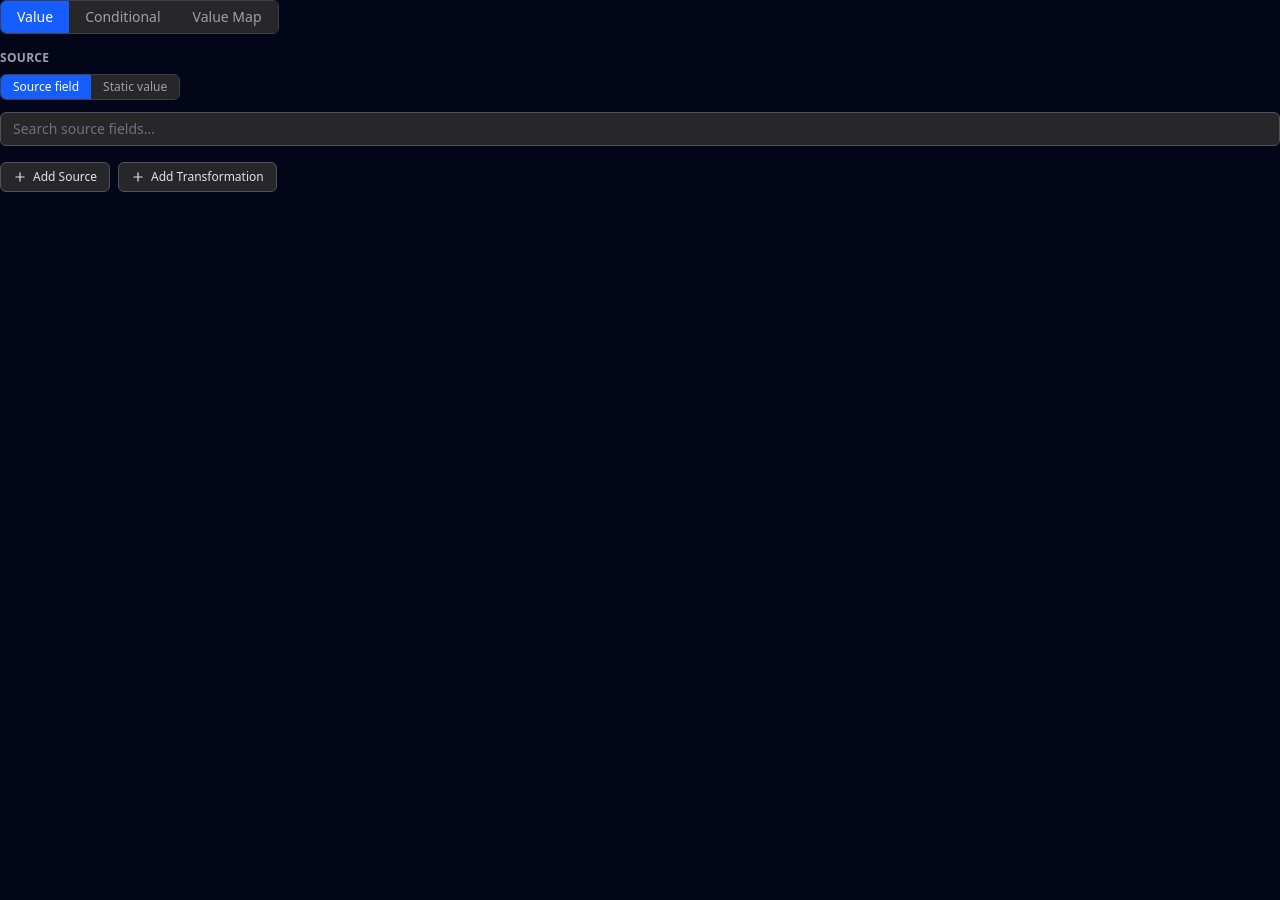
Test: UnifiedExpressionBuilder — mode switch confirmation › shows confirmation dialog when switching mode with non-empty state (AE-13)
Click the dropdown with test id "source-search-input".
click(640, 129)  # box [0,112,1279,146]
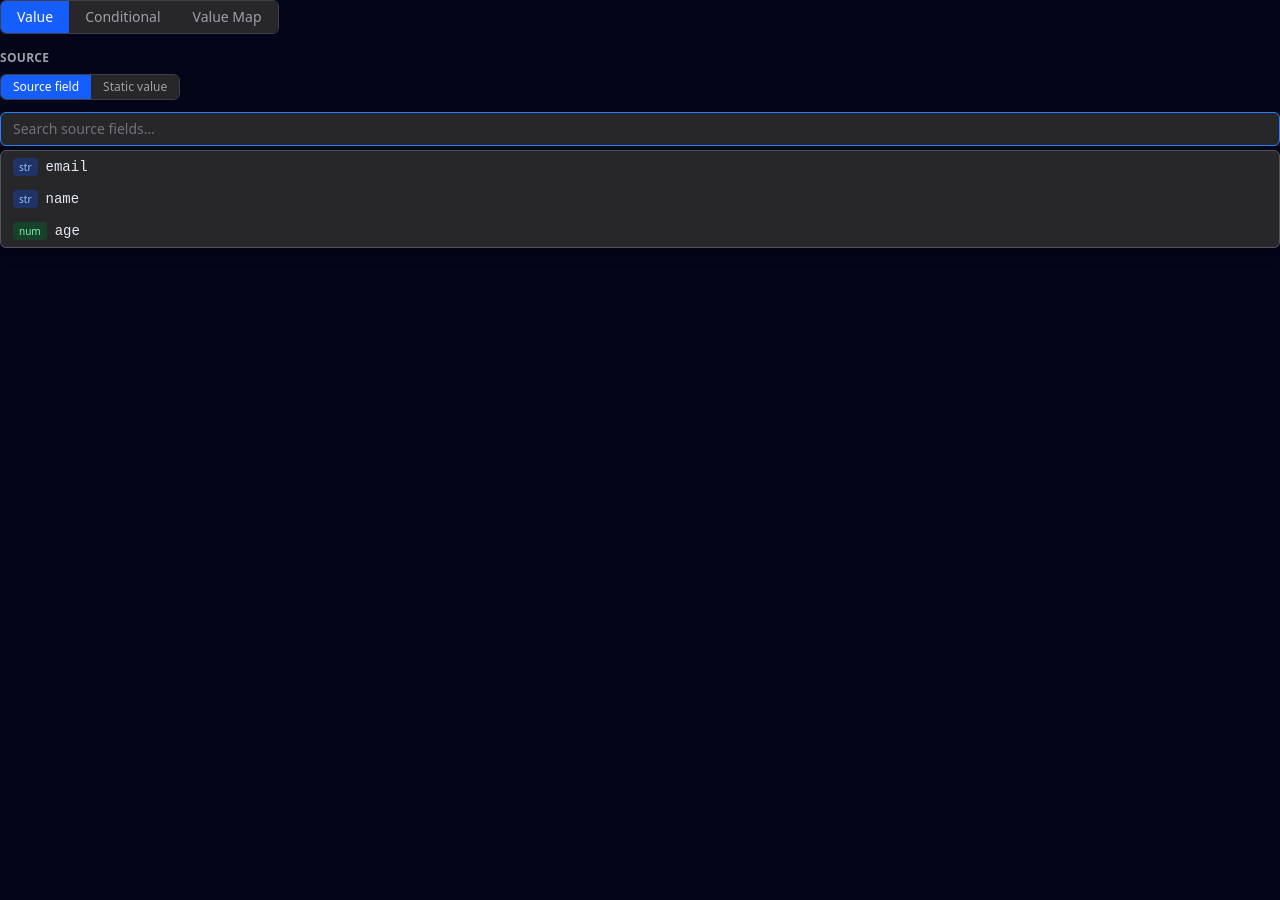
Click the button with test id "suggestion-email".
click(67, 167)  # box [1,151,1279,183]
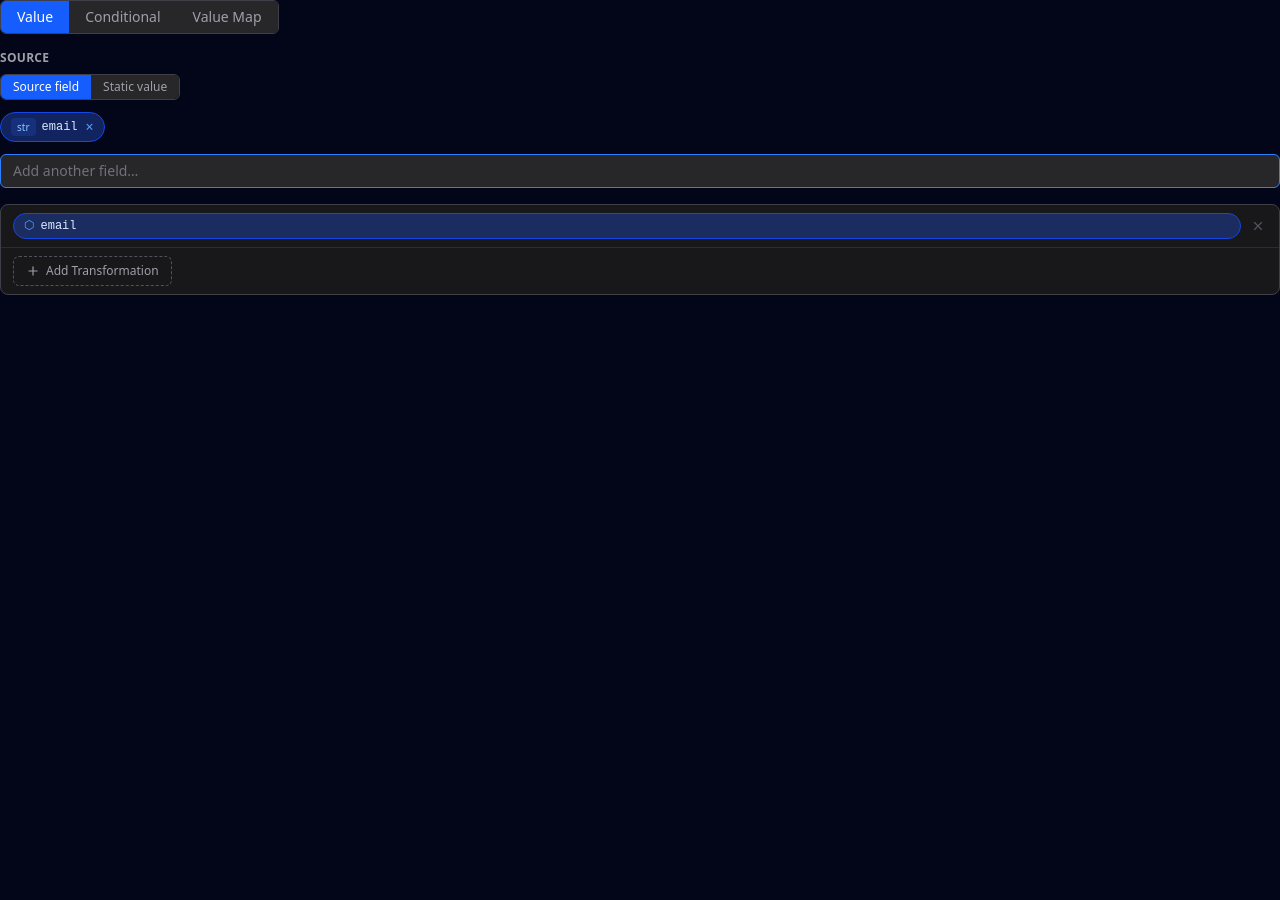
Click the tab with test id "mode-tab-conditional".
click(123, 17)  # box [69,1,177,33]
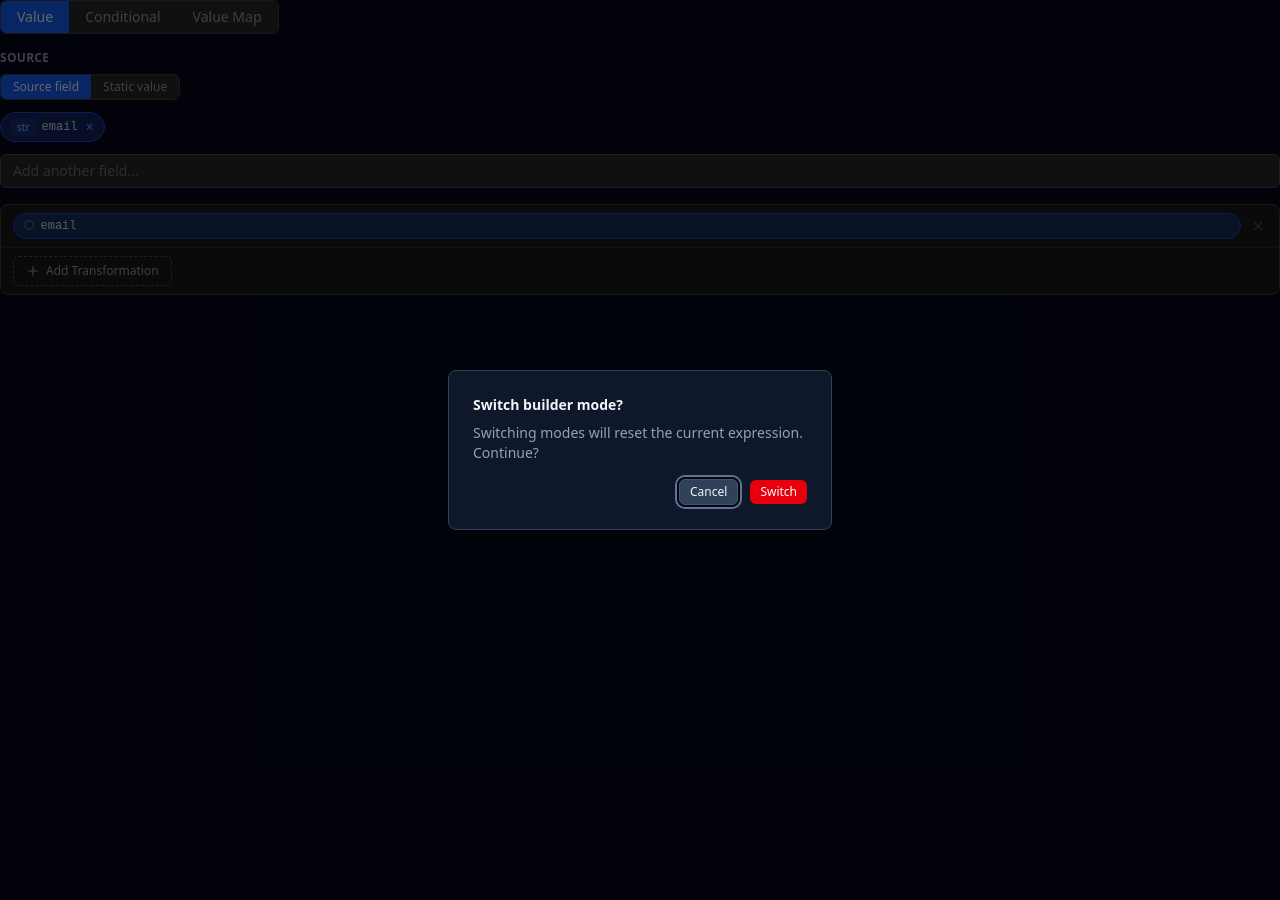
Now the dialog with test id "confirm-dialog" is shown, box [448,370,832,530]
Now the text "Switching modes will reset the current expression. Continue?" is shown, box [473,423,807,463]
